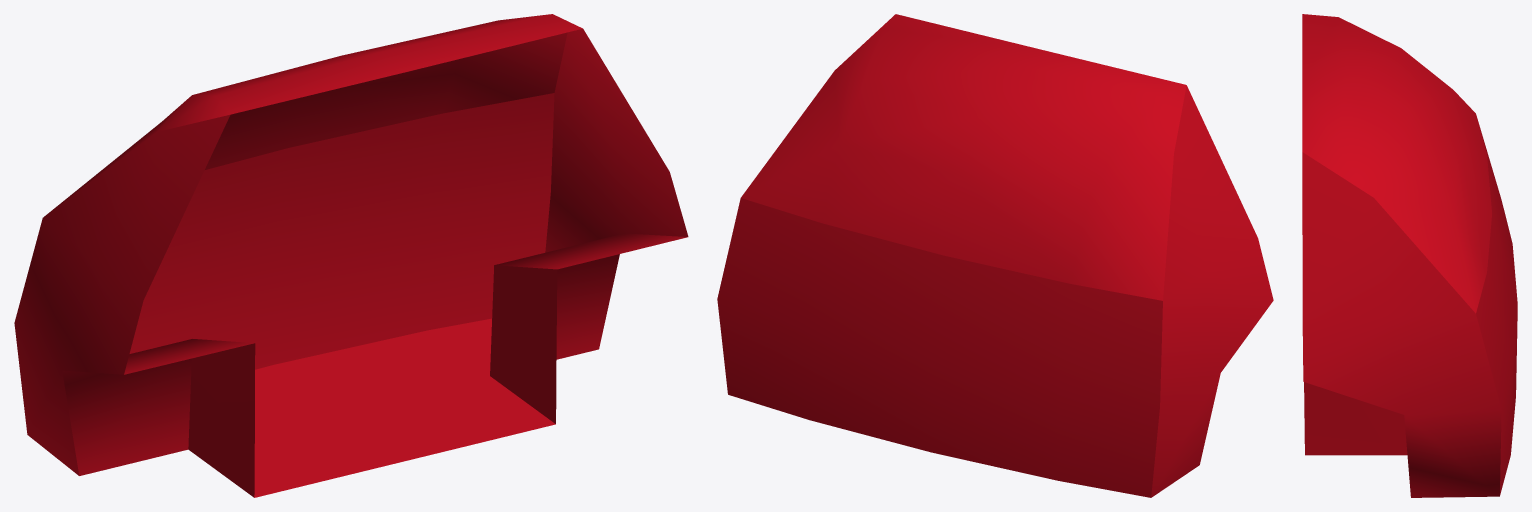
Rendered from template_car_wagon_rear.dae.
3 renders of one model, left to right at view 1: azimuth 30°, elevation 25°; view 2: azimuth 150°, elevation 25°; view 3: azimuth 270°, elevation 25°, orthographic. The views are drawn at different scales.
Visible parts, largest first — view 1: template_car_wagon_rear; view 2: template_car_wagon_rear; view 3: template_car_wagon_rear.
Boxes of the visible parts, x1=… form: template_car_wagon_rear: x1=14, y1=14, x2=688, y2=497; template_car_wagon_rear: x1=717, y1=14, x2=1273, y2=497; template_car_wagon_rear: x1=1302, y1=14, x2=1517, y2=497.
Size of the model in its own units: 1.71 by 0.7049 by 1.13.
